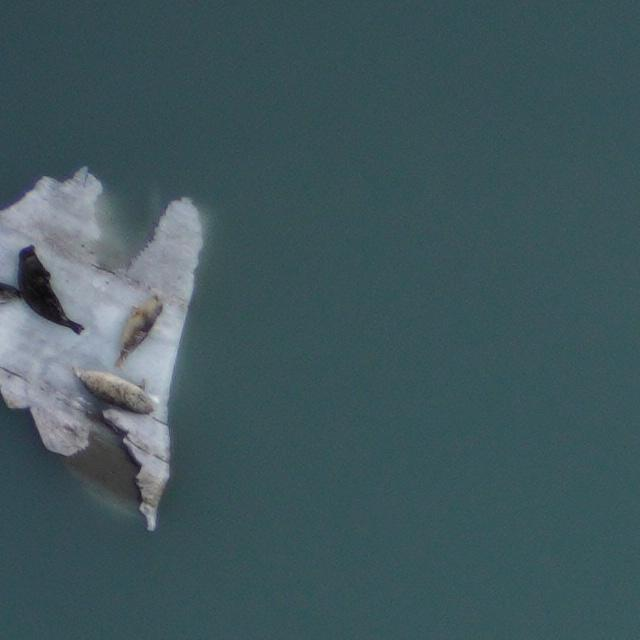seal: (1, 241, 86, 350), (101, 286, 168, 373), (69, 366, 163, 418)
